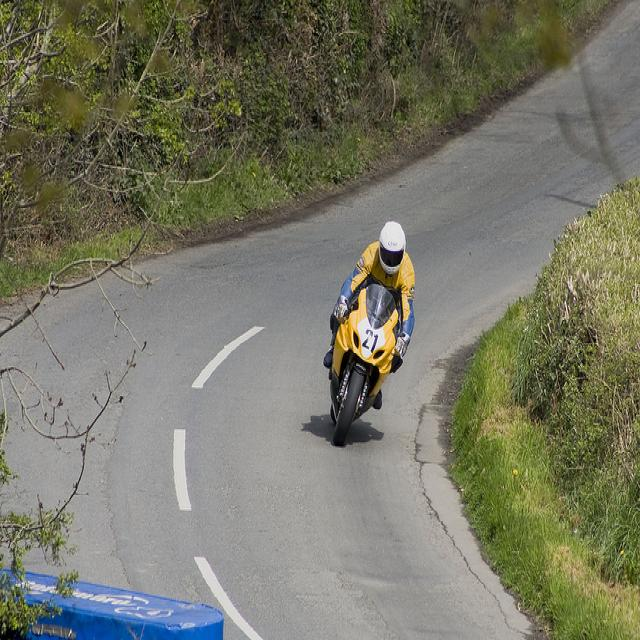motor: (328, 286, 406, 448)
